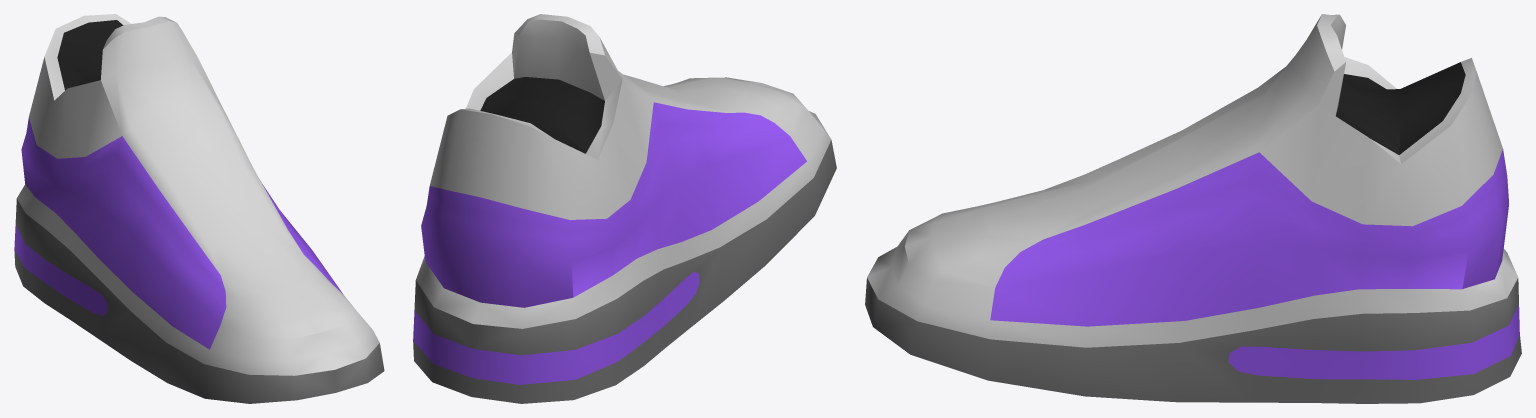
Rendered from Sneaker A.fbx.
3 renders of one model, left to right at view 1: azimuth 30°, elevation 25°; view 2: azimuth 150°, elevation 25°; view 3: azimuth 270°, elevation 25°, orthographic. The views are drawn at different scales.
Parts seen in each view (by area): view 1: Sneakers A; view 2: Sneakers A; view 3: Sneakers A.
Part boxes in pixels (box(x1,y1,x2,y2)): Sneakers A: box(14, 14, 384, 403); Sneakers A: box(413, 14, 836, 403); Sneakers A: box(865, 14, 1521, 403).
Bounding box in the file's own units: 35.38 × 53.81 × 96.74.
